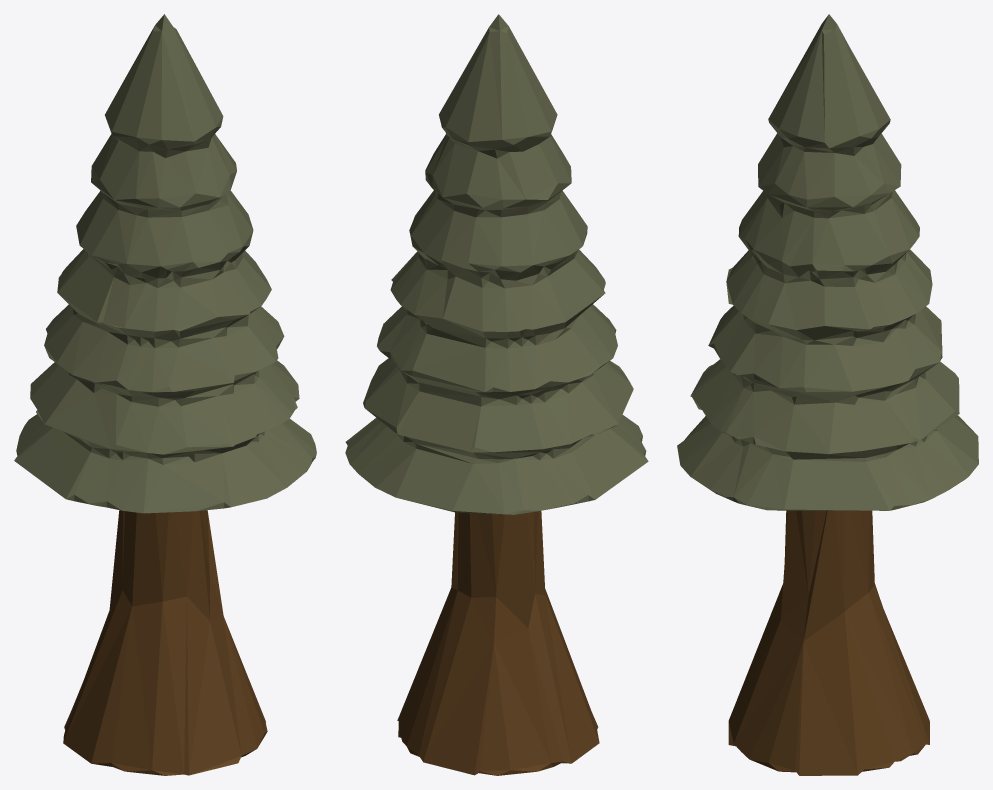
File: Trees.glb
The picture shows the model from 3 angles, left to right: view 1: azimuth 30°, elevation 25°; view 2: azimuth 150°, elevation 25°; view 3: azimuth 270°, elevation 25°; orthographic projection.
Visible parts, largest first — view 1: Root; view 2: Root; view 3: Root.
Boxes of the visible parts, box(x1,y1,x2,y2) form: Root: box(14, 14, 316, 775); Root: box(345, 14, 648, 775); Root: box(677, 14, 978, 775).
Bounding box in the file's own units: 1.32 × 3.66 × 1.39.
